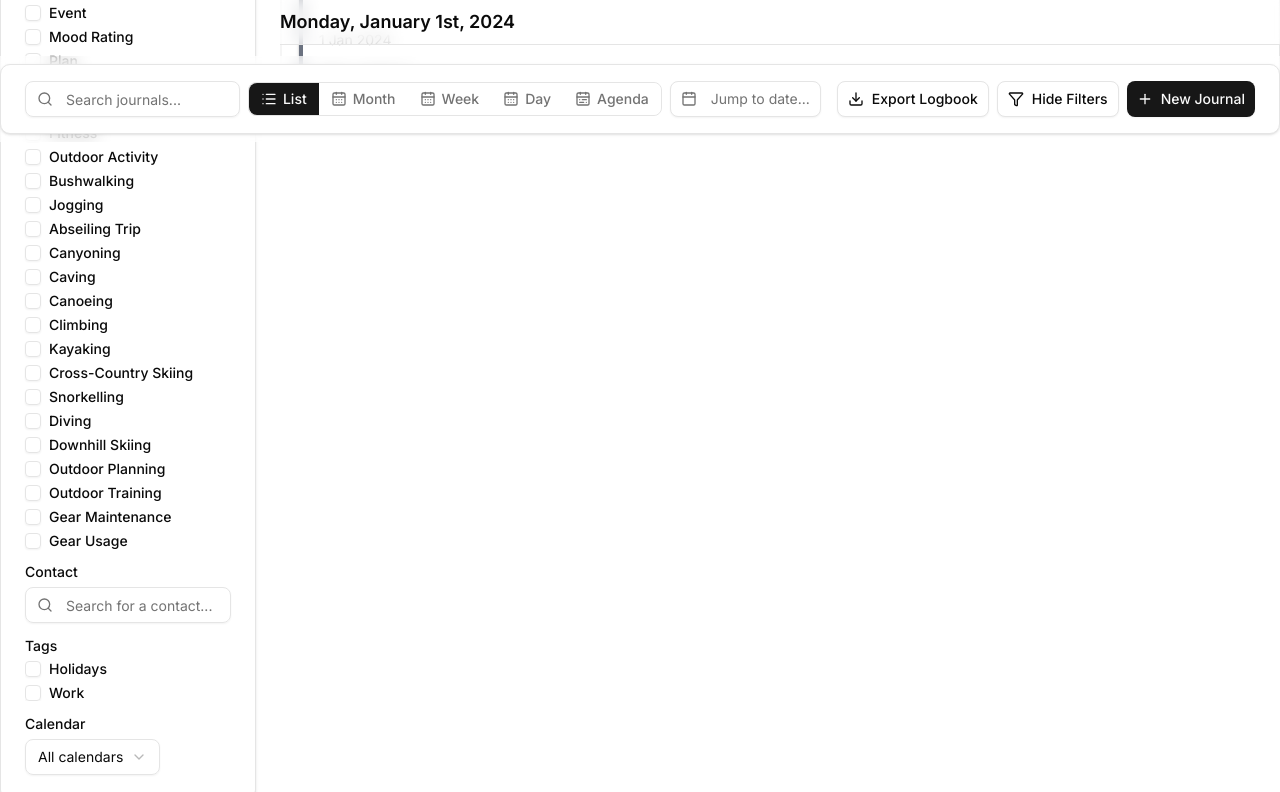
Test: JournalsPage › tag deep link (/journals?tag=<id>) › does not leave a phantom tag_ids key after the last tag is unchecked
(page scrolled)
Click the checkbox named "Work" next to "Work" at (33, 693), box [25,685,41,701]
(page scrolled)
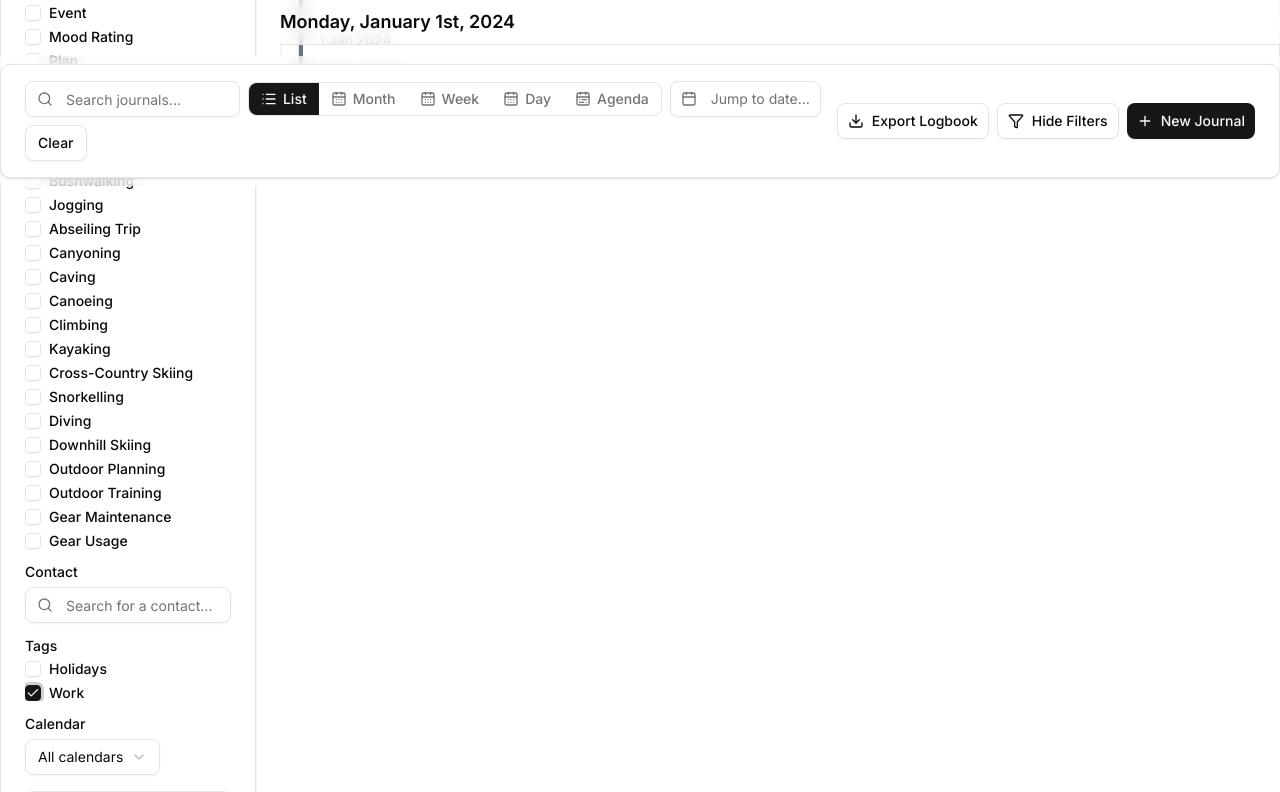
Click the checkbox named "Work" next to "Work" at (33, 693), box [25,685,41,701]
(page scrolled)
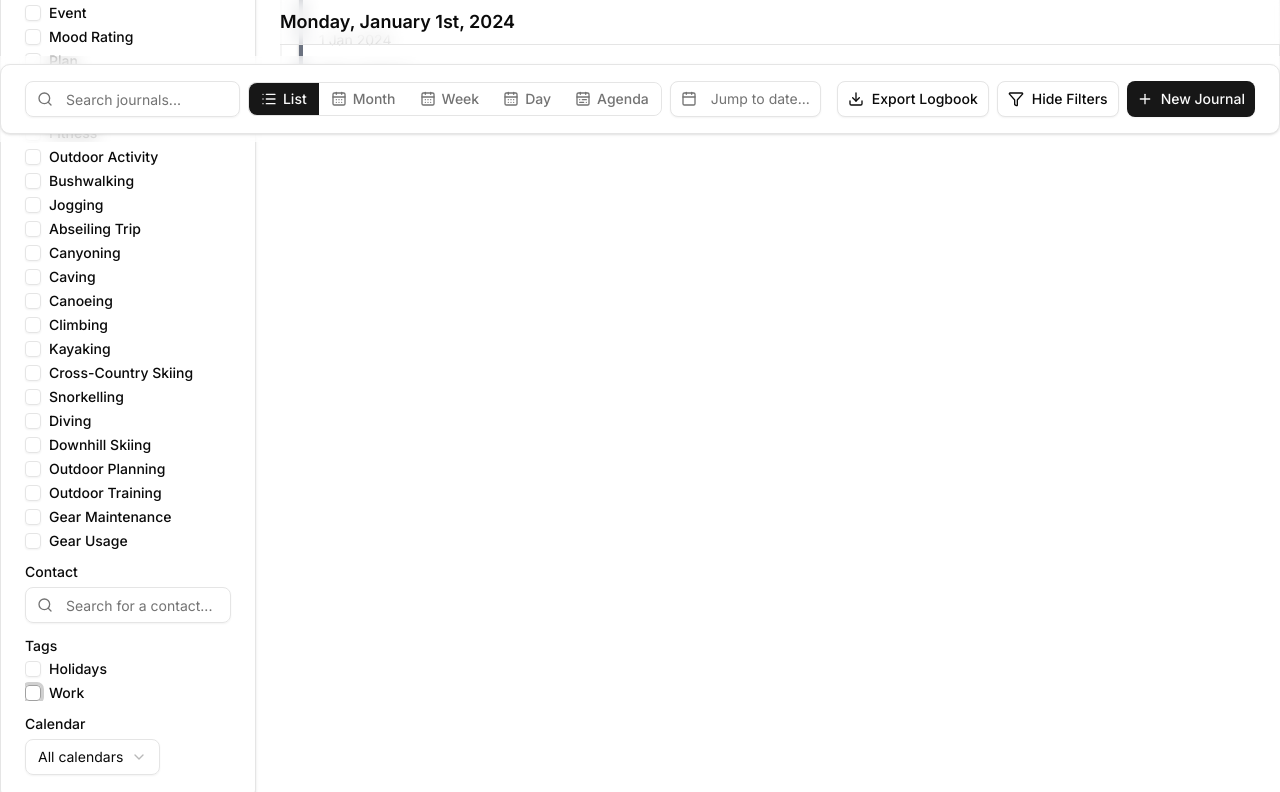
Expected: the button with test id "clear-filters" is gone
